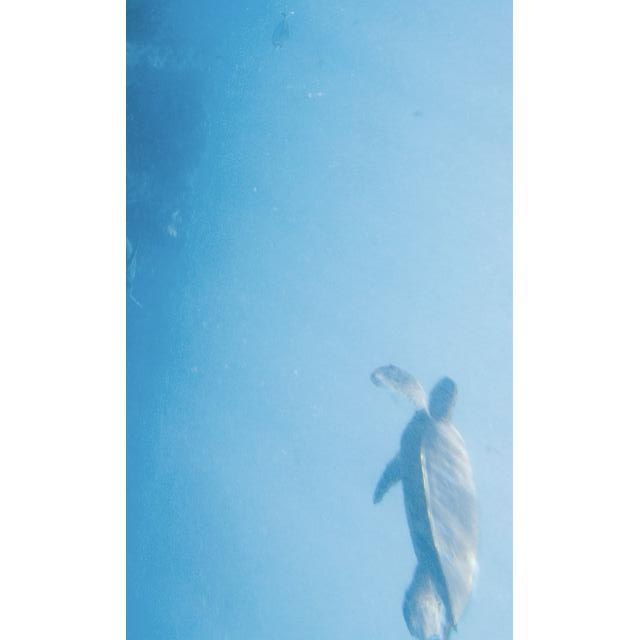turtle: (370, 362, 479, 638)
